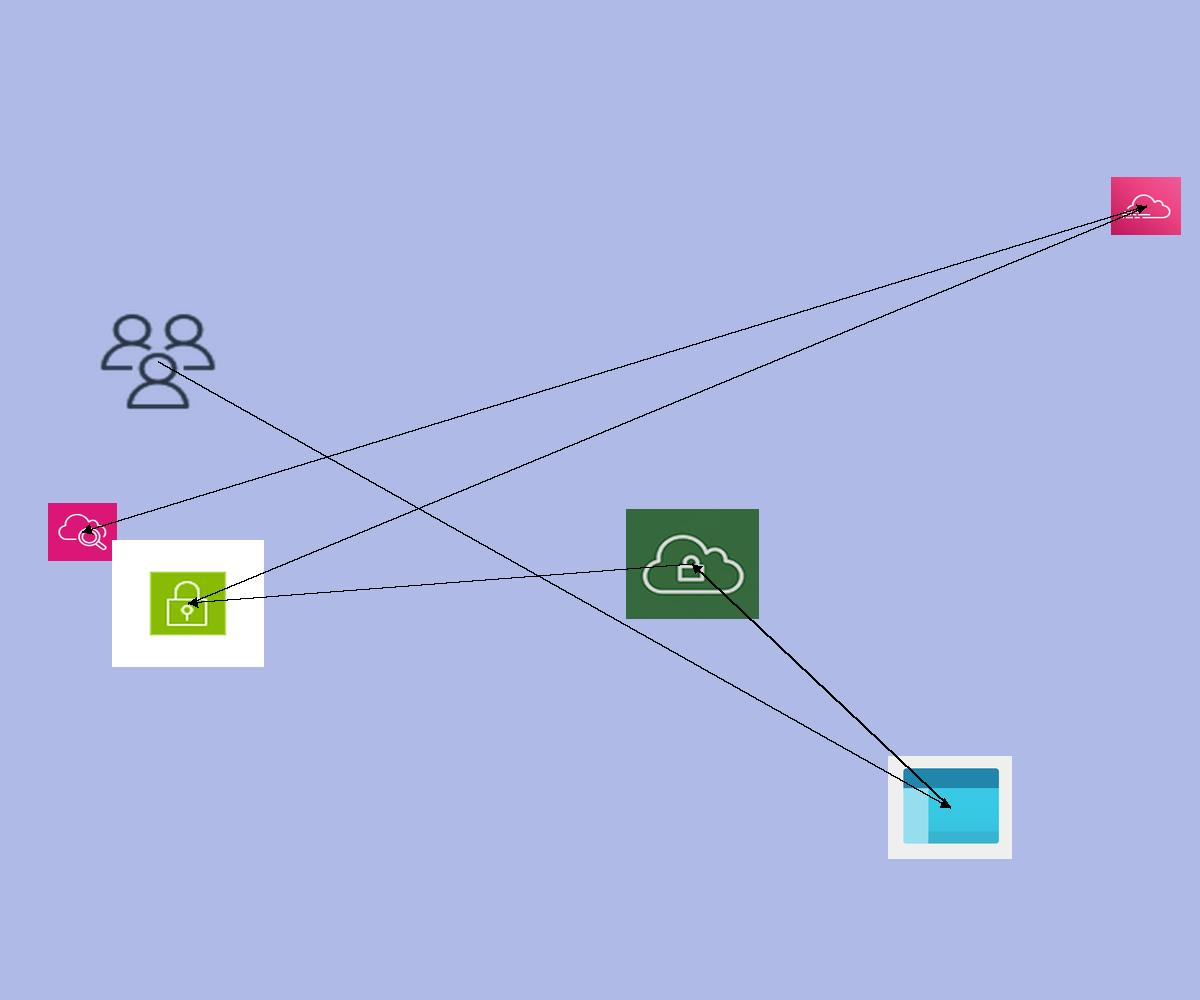AWS-CloudTrail: (1111, 177, 1181, 235)
AWS-CloudWatch: (48, 503, 117, 561)
AWS-Private_vpc: (626, 509, 759, 619)
AWS-Public-subnet: (112, 540, 264, 667)
AWS-Res_Users: (96, 310, 220, 413)
Azure_management-portal: (888, 756, 1012, 859)
